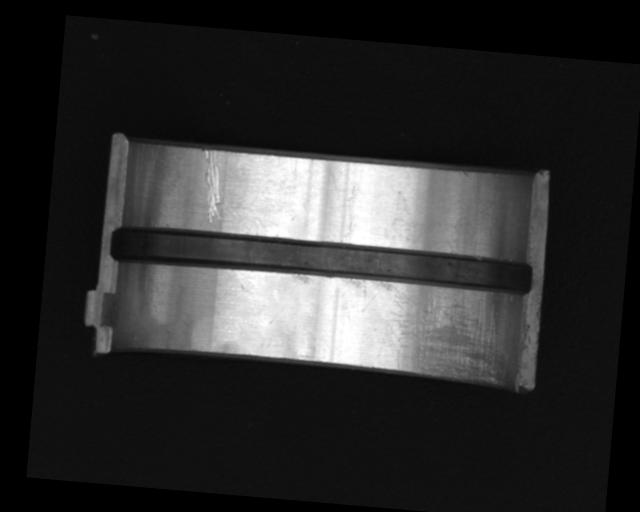gap: (108, 224, 534, 299)
nick: (196, 147, 228, 224)
scratch: (369, 281, 514, 388)
